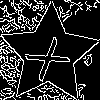X: (24, 29, 79, 83)
